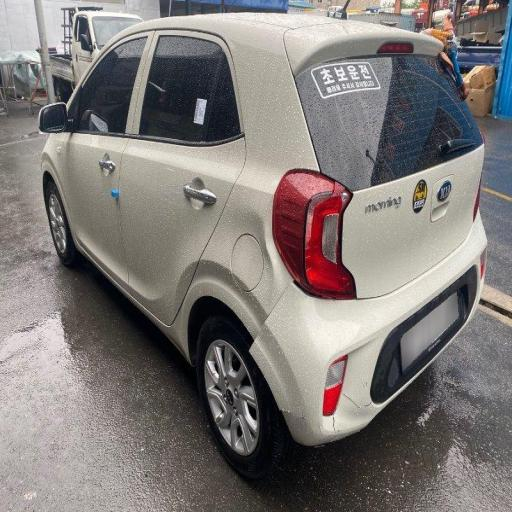broken: (235, 255, 322, 428)
